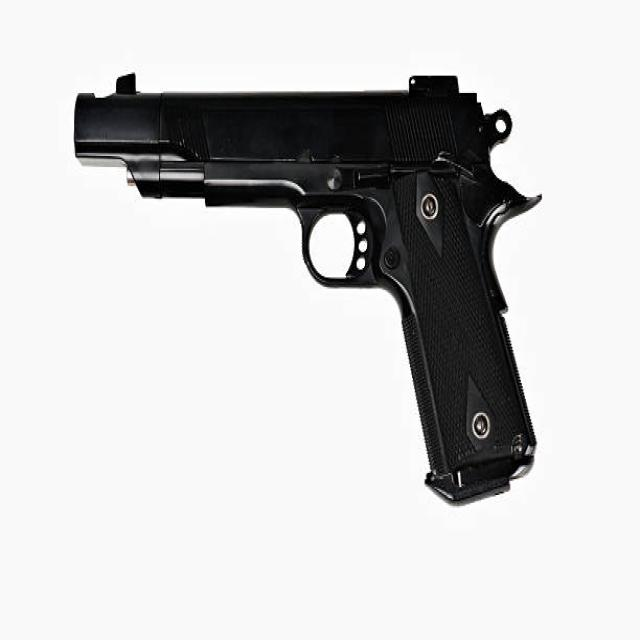pistol: (74, 64, 549, 513)
